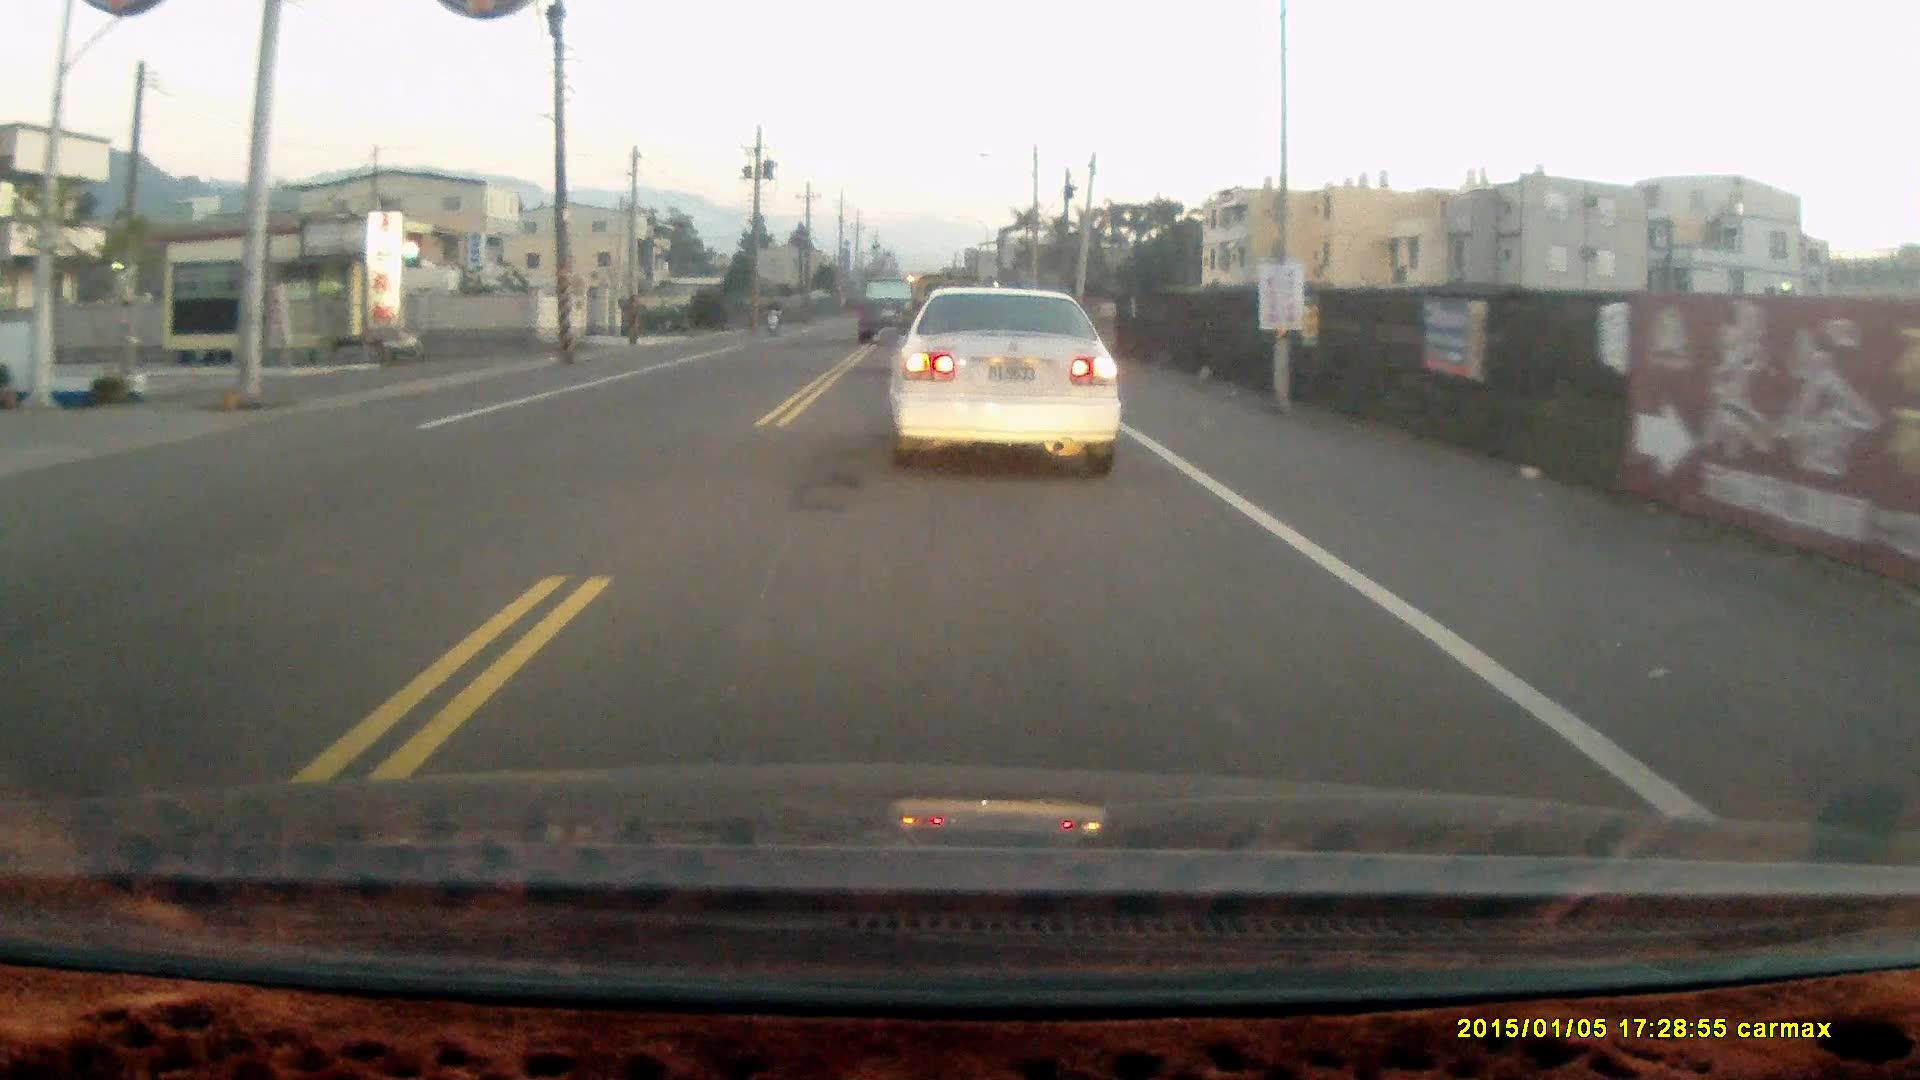rider: (760, 294, 782, 339)
vehicle: (883, 288, 1127, 480), (854, 276, 923, 350)
